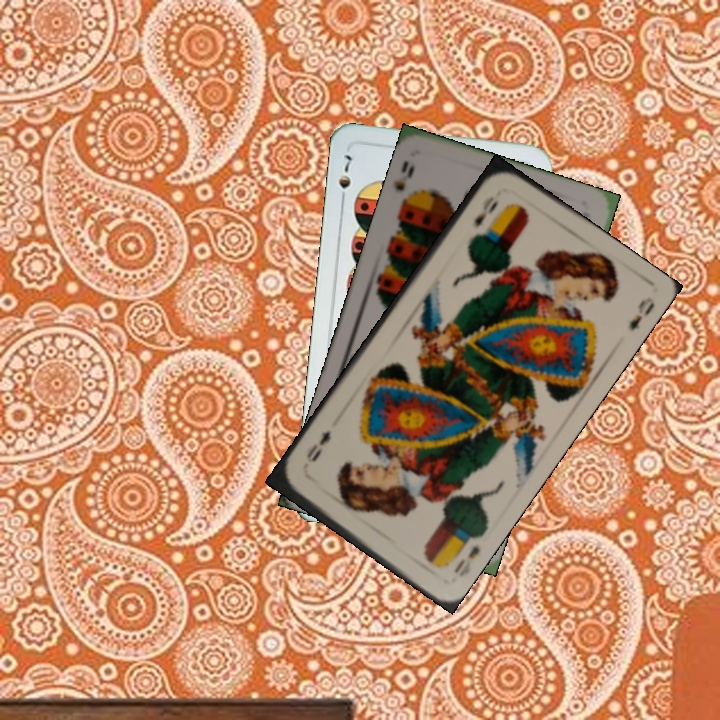EO: (449, 541, 483, 580), (470, 191, 502, 230)
S7: (334, 150, 355, 207)
S9: (390, 156, 417, 212)
